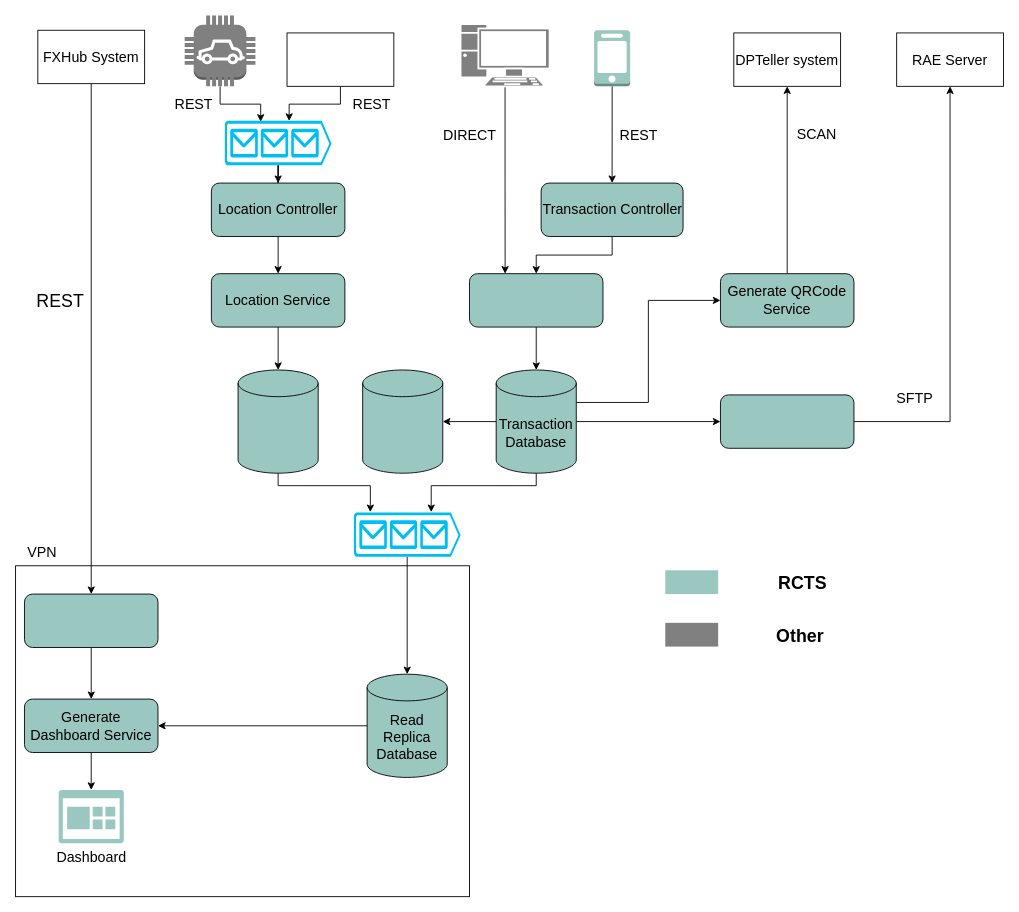
Image size: 1019x912. Some labels were removed from this diagram. The shapes that lost their labels are listed below. From the top down, each one's centre as x and y in pixels, then its label:
(340,59): Cash Center Location system
(536,300): Transaction Service
(277,421): Location Database
(402,421): Standby Database
(787,421): Batch Export CSV File
(91,620): Exchange Rate Controller
